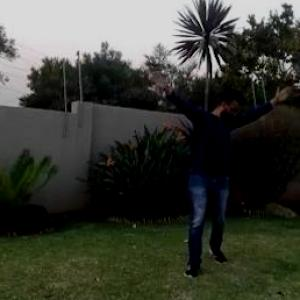takeoff: (150, 71, 294, 279)
